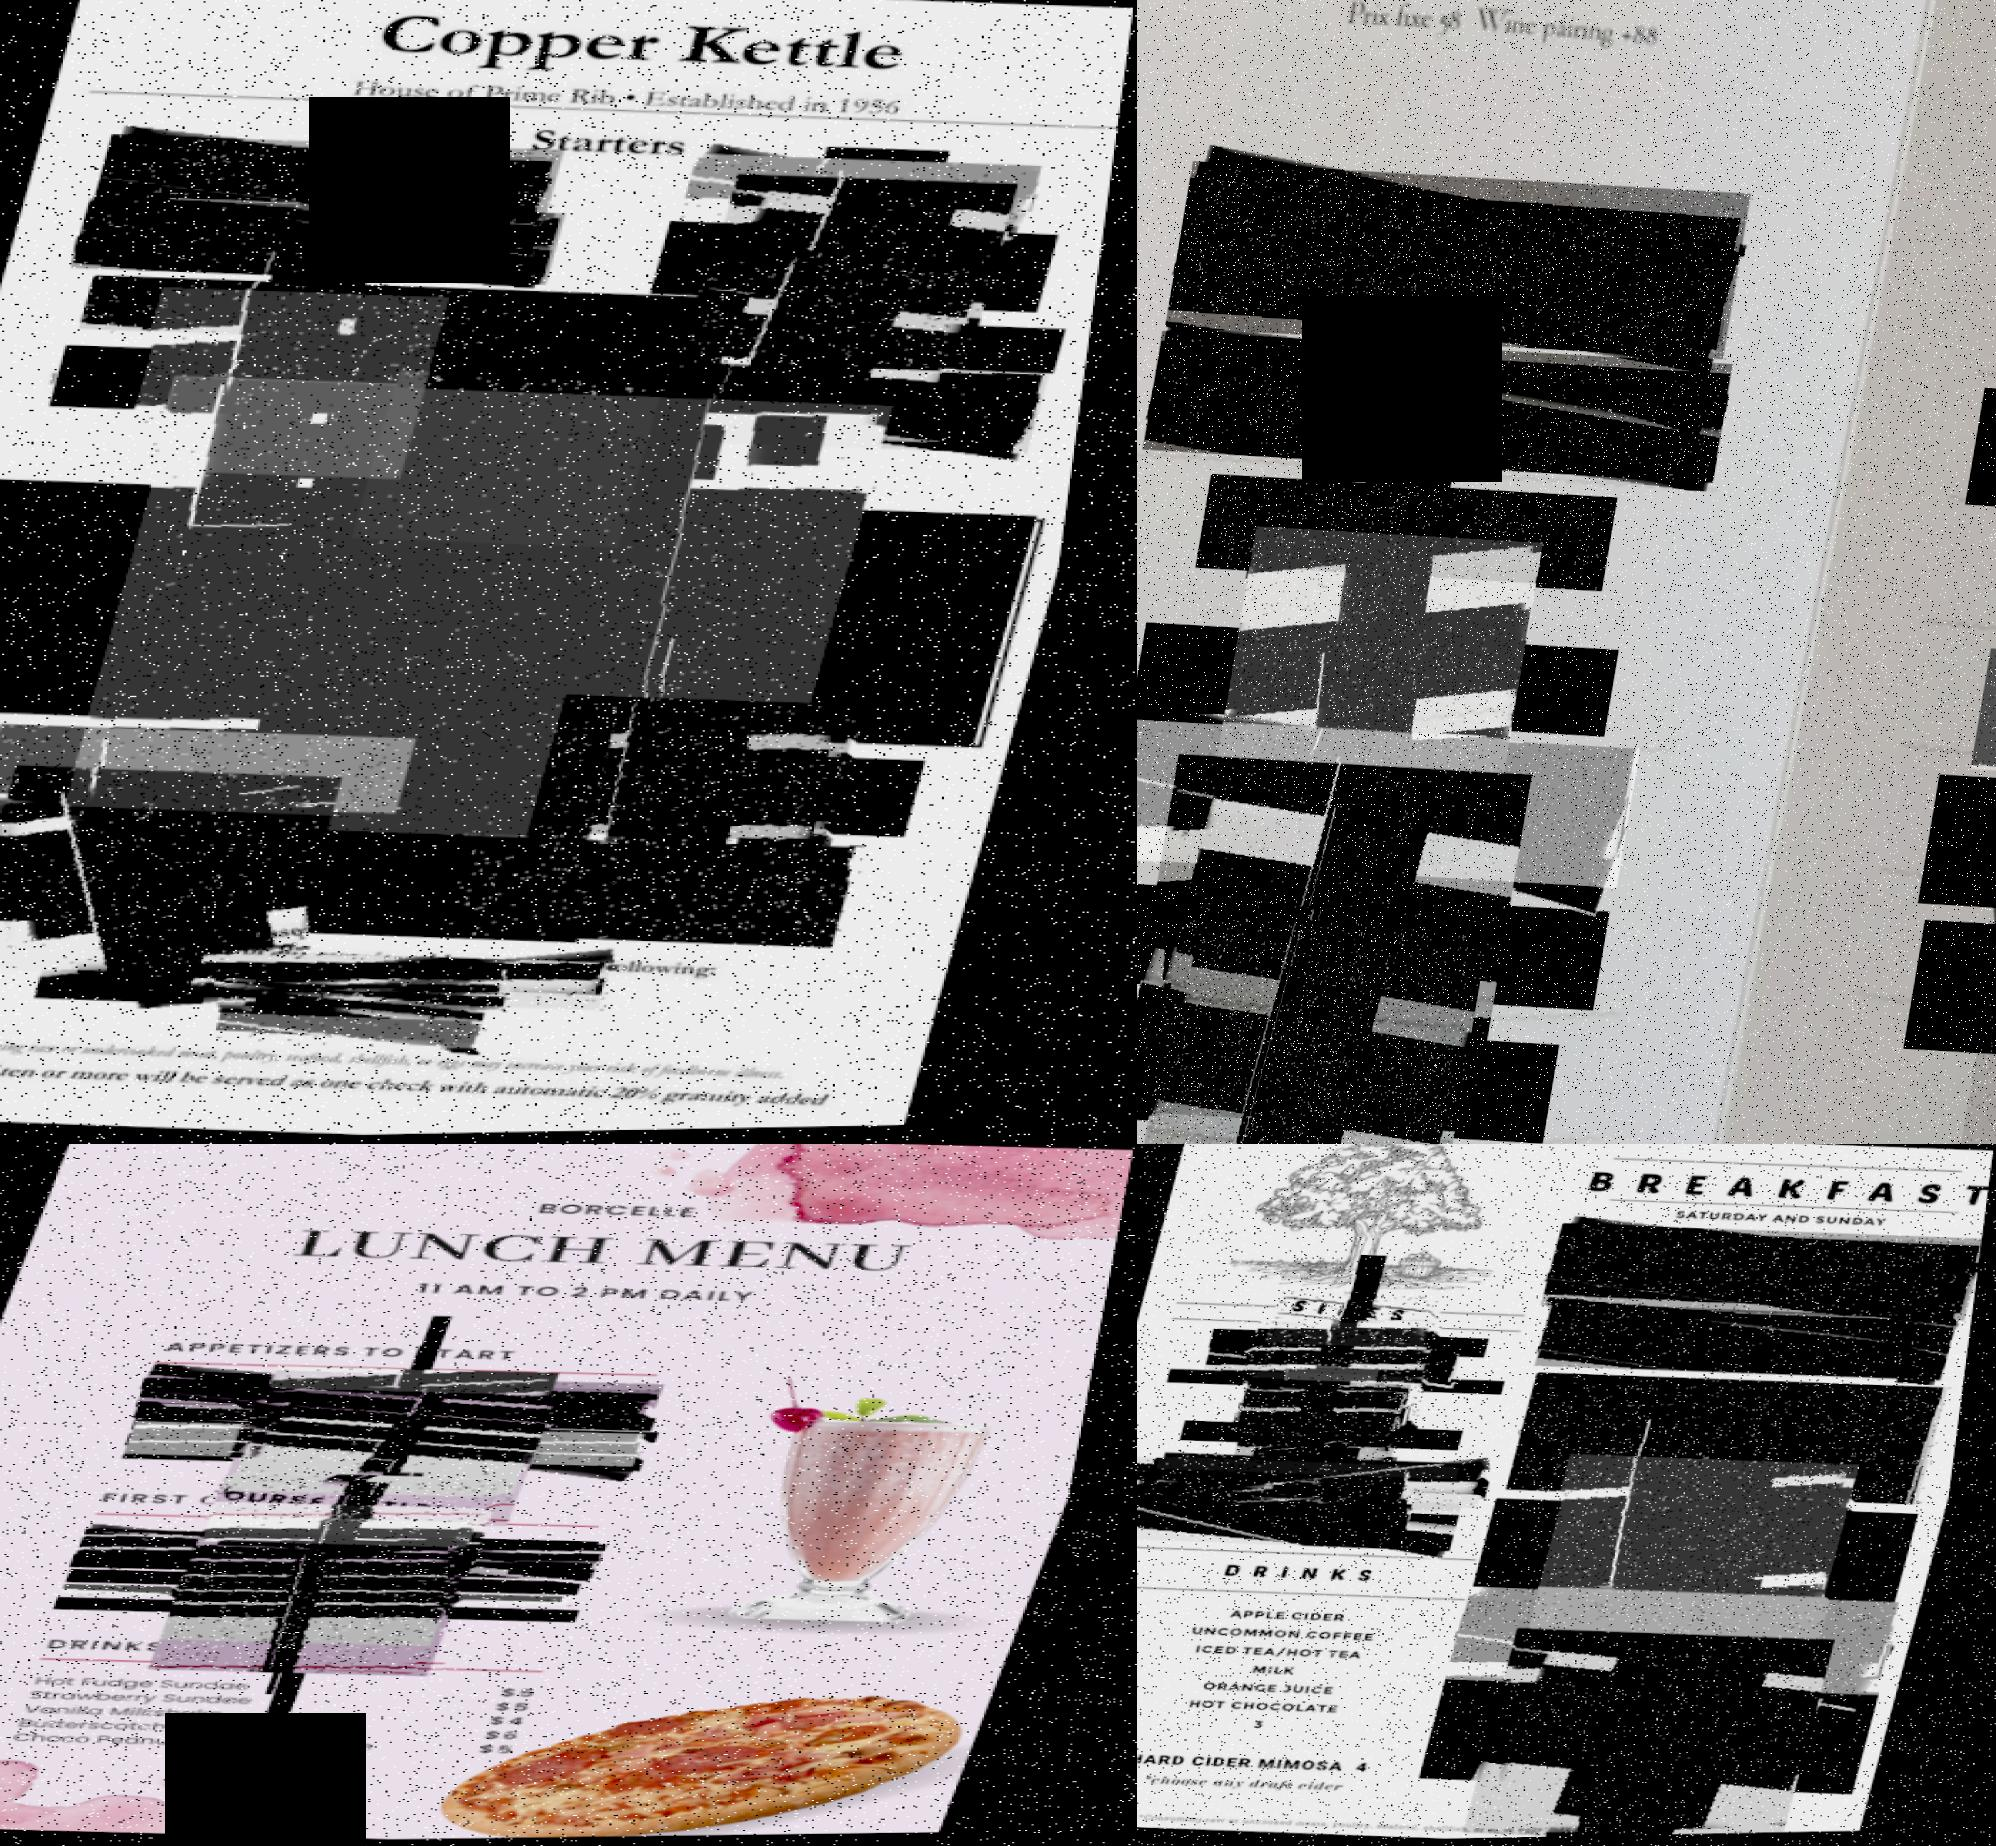Menu-Items: (78, 370, 918, 860), (1141, 751, 1553, 1144), (1174, 149, 1766, 379), (1151, 320, 1747, 502), (1226, 523, 1560, 843), (1137, 707, 1660, 909), (1154, 913, 1511, 1144), (0, 765, 367, 986), (1480, 1627, 1850, 1839), (1537, 1451, 1876, 1657), (548, 695, 892, 895), (130, 289, 468, 485), (1513, 1368, 1961, 1514), (675, 250, 1003, 442), (697, 176, 1024, 367), (1208, 468, 1634, 605), (1457, 1582, 1918, 1707), (374, 370, 685, 554), (572, 355, 1073, 466), (469, 829, 895, 956), (77, 189, 576, 294), (1542, 1218, 1987, 1333), (221, 1389, 567, 1535), (97, 129, 579, 229), (167, 1542, 499, 1681), (0, 720, 440, 824), (242, 1365, 570, 1502), (183, 1500, 509, 1637), (195, 1472, 520, 1610), (183, 1517, 501, 1650), (1537, 1302, 1965, 1394), (163, 940, 650, 1020), (87, 269, 532, 356), (134, 1417, 668, 1477), (683, 153, 1054, 240), (85, 1526, 626, 1584), (1236, 1318, 1448, 1448), (146, 1366, 676, 1415), (1137, 1451, 1502, 1519), (144, 1382, 671, 1427), (1137, 1490, 1473, 1557), (1234, 1378, 1424, 1493), (1262, 1288, 1447, 1401), (141, 1399, 669, 1438), (77, 1580, 598, 1617), (242, 1012, 529, 1060), (247, 975, 551, 1020), (1167, 1448, 1476, 1490), (1208, 1340, 1473, 1387), (273, 996, 516, 1041), (1194, 1481, 1429, 1524), (1283, 1368, 1389, 1431), (1248, 1404, 1419, 1432), (1285, 1431, 1367, 1479)
